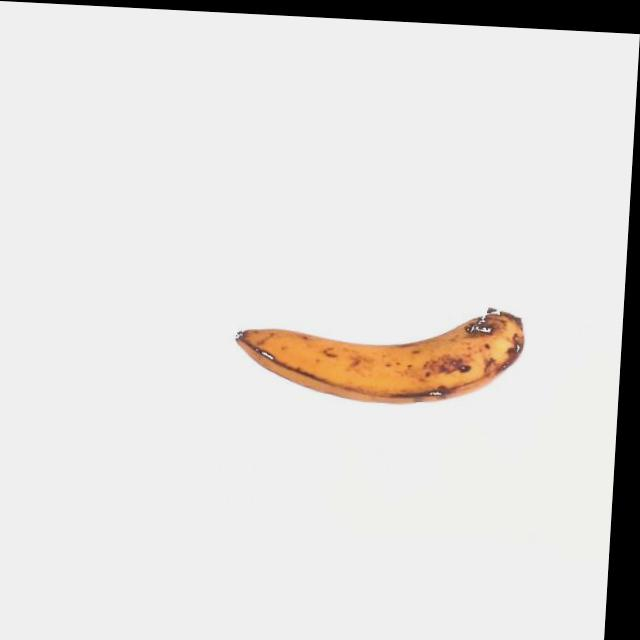banana: (219, 295, 528, 412)
